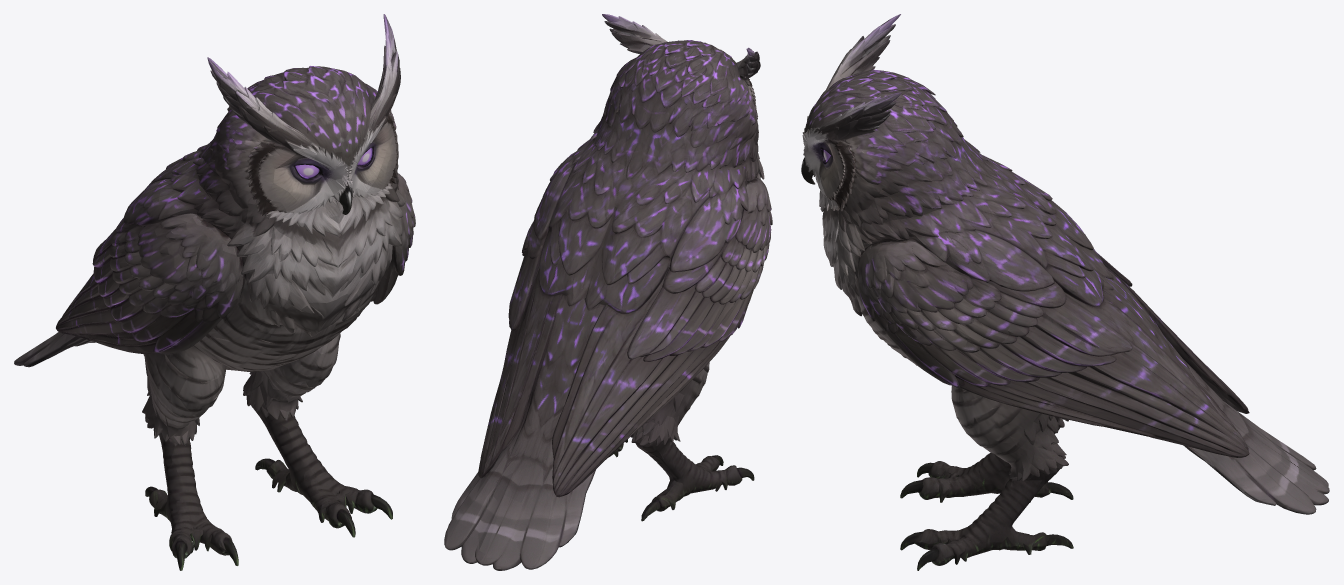
Rendered from duskhush_a.glb.
The picture shows the model from 3 angles, left to right: view 1: azimuth 30°, elevation 25°; view 2: azimuth 150°, elevation 25°; view 3: azimuth 270°, elevation 25°; orthographic projection. The views are drawn at different scales.
Visible parts, largest first — view 1: Mesh_0; view 2: Mesh_0; view 3: Mesh_0.
Part boxes in pixels (x1,y1,x2,y2): Mesh_0: (14,14,415,570); Mesh_0: (444,14,772,570); Mesh_0: (801,14,1329,570).
Bounding box in the file's own units: 0.9709 × 1.87 × 1.9.
Materials: 1 (1 with a texture image).
